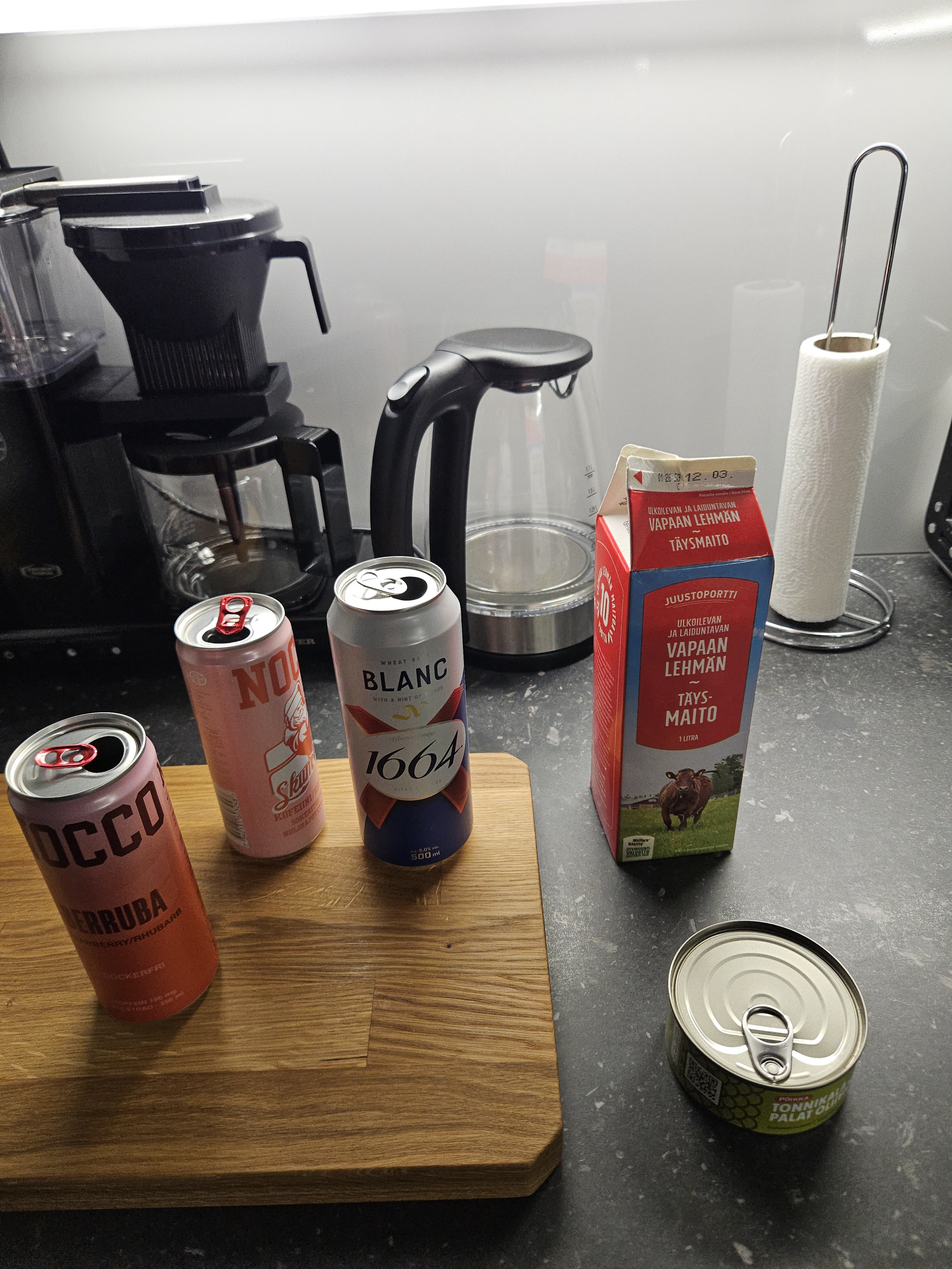Dryckeskartong: (589, 442, 777, 863)
Konservburk: (662, 919, 873, 1131)
Pantburk: (2, 710, 219, 1028), (326, 552, 474, 868), (173, 587, 321, 858)
